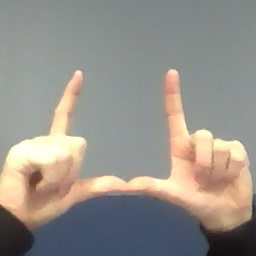U: (2, 66, 255, 216)
